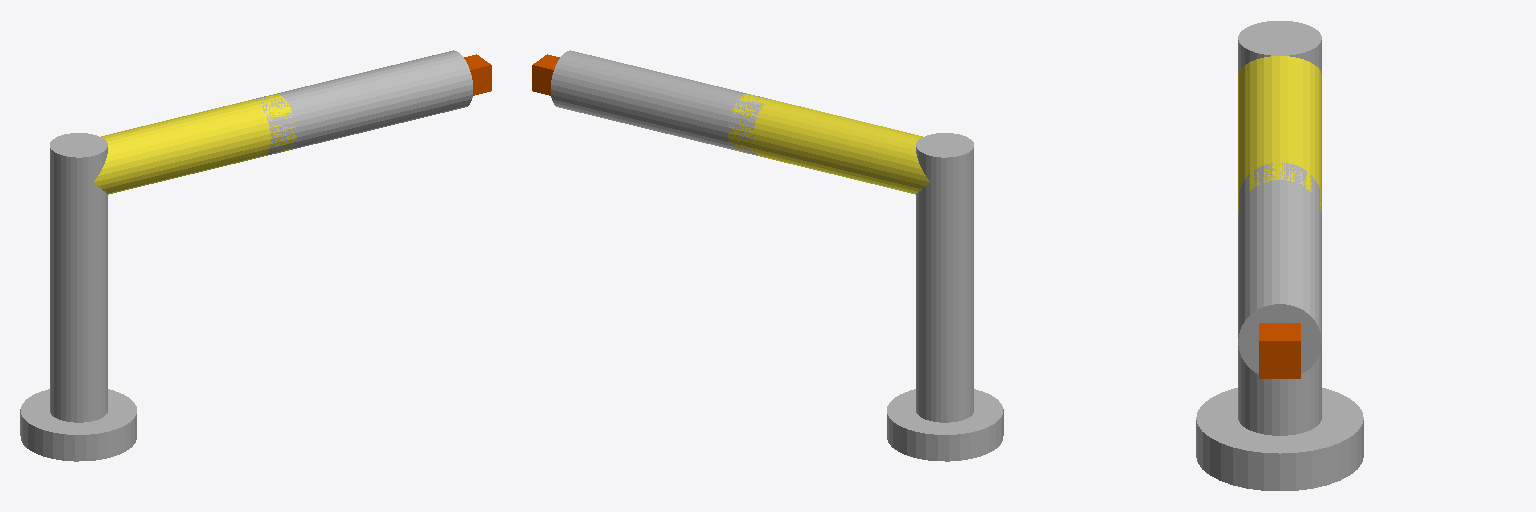
URDF robot description (team11_bot):
<?xml version="1.0" ?>
<robot name="team11_bot">
    <link name="world" />
    <link name="base_link">
        <visual>
            <geometry>
                <cylinder length="0.05" radius="0.1" />
            </geometry>
            <material name="silver">
                <color rgba="0.75 0.75 0.75 1" />
            </material>
            <origin rpy="0 0 0" xyz="0 0 0.025" />
        </visual>
        <collision>
            <geometry>
                <cylinder length="0.05" radius="0.1" />
            </geometry>
            <origin rpy="0 0 0" xyz="0 0 0.025" />
        </collision>
        
<inertial>
            <mass value="0.1" />
            <inertia ixx="0.03" iyy="0.03" izz="0.03" ixy="0.0" ixz="0.0" iyz="0.0" />
        </inertial>

    </link>
    <joint name="fixed" type="fixed">
        <parent link="world" />
        <child link="base_link" />
    </joint>
    <link name="torso">
        <visual>
            <geometry>
                <cylinder length="0.5" radius="0.05" />
            </geometry>
            <material name="silver">
                <color rgba="0.75 0.75 0.75 1" />
            </material>
            <origin rpy="0 0 0" xyz="0 0 0.25" />
        </visual>
        <collision>
            <geometry>
                <cylinder length="0.5" radius="0.05" />
            </geometry>
            <origin rpy="0 0 0" xyz="0 0 0.25" />
        </collision>
        
<inertial>
            <mass value="0.1" />
            <inertia ixx="0.03" iyy="0.03" izz="0.03" ixy="0.0" ixz="0.0" iyz="0.0" />
        </inertial>

    </link>
    <joint name="hip" type="continuous">
        <axis xyz="0 0 1" />
        <parent link="base_link" />
        <child link="torso" />
        <origin rpy="0 0 0" xyz="0.0 0.0 0.05" />
    </joint>
    <link name="upper_arm">
        <visual>
            <geometry>
                <cylinder length="0.4" radius="0.05" />
            </geometry>
            <material name="red" />
            <origin rpy="0 0 0" xyz="0 0 0.2" />
        </visual>
        <collision>
            <geometry>
                <cylinder length="0.4" radius="0.05" />
            </geometry>
            <origin rpy="0 0 0" xyz="0 0 0.2" />
        </collision>
        
<inertial>
            <mass value="0.1" />
            <inertia ixx="0.03" iyy="0.03" izz="0.03" ixy="0.0" ixz="0.0" iyz="0.0" />
        </inertial>

    </link>
    <joint name="shoulder" type="continuous">
        <axis xyz="0 1 0" />
        <parent link="torso" />
        <child link="upper_arm" />
        <origin rpy="0 1.5708 0" xyz="0.0 0.0 0.45" />
    </joint>
    <link name="lower_arm">
        <visual>
            <geometry>
                <cylinder length="0.4" radius="0.05" />
            </geometry>
            <material name="silver" />
            <origin rpy="0 0 0" xyz="0 0 0.2" />
        </visual>
        <collision>
            <geometry>
                <cylinder length="0.4" radius="0.05" />
            </geometry>
            <origin rpy="0 0 0" xyz="0 0 0.2" />
        </collision>
        
<inertial>
            <mass value="0.1" />
            <inertia ixx="0.03" iyy="0.03" izz="0.03" ixy="0.0" ixz="0.0" iyz="0.0" />
        </inertial>

    </link>
    <joint name="elbow" type="continuous">
        <axis xyz="0 1 0" />
        <parent link="upper_arm" />
        <child link="lower_arm" />
        <origin rpy="0 0 0" xyz="0.0 0.0 0.35" />
    </joint>
    <link name="hand">
        <visual>
            <geometry>
                <box size="0.05 0.05 0.05" />
            </geometry>
            <material name="blue" />
        </visual>
        <collision>
            <geometry>
                <box size="0.05 0.05 0.05" />
            </geometry>
        </collision>
        
<inertial>
            <mass value="0.1" />
            <inertia ixx="0.03" iyy="0.03" izz="0.03" ixy="0.0" ixz="0.0" iyz="0.0" />
        </inertial>

    </link>
    <joint name="wrist" type="continuous">
        <axis xyz="0 1 0" />
        <parent link="lower_arm" />
        <child link="hand" />
        <origin rpy="0 0 0" xyz="0.0 0.0 0.425" />
    </joint>
    
    
    
    
    <!--
    <gazebo reference="base_link">
        <sensor type="ray" name="hokuyo">
            <pose>0 0 0 0 0 0</pose>
            <visualize>true</visualize>
            <update_rate>40</update_rate>
            <ray>
                <scan>
                    <horizontal>
                        <samples>720</samples>
                        <resolution>1</resolution>
                        <min_angle>-1.570796</min_angle>
                        <max_angle>1.570796</max_angle>
                    </horizontal>
                </scan>
                <range>
                    <min>0.10</min>
                    <max>30.0</max>
                    <resolution>0.01</resolution>
                </range>
            </ray>
            <plugin name="gpu_laser" filename="libgazebo_ros_laser.so">
                <topicName>/scan</topicName>
                <frameName>base_hokuyo_link</frameName>
            </plugin>
        </sensor>
    </gazebo>
-->
    
    
    <transmission name="trans_hip">
        <type>transmission_interface/SimpleTransmission</type>
        <joint name="hip">
            <hardwareInterface>hardware_interface/PositionJointInterface</hardwareInterface>
        </joint>
        <actuator name="hip_motor">
            <hardwareInterface>hardware_interface/PositionJointInterface</hardwareInterface>
            <mechanicalReduction>1</mechanicalReduction>
        </actuator>
    </transmission>
    <transmission name="trans_shoulder">
        <type>transmission_interface/SimpleTransmission</type>
        <joint name="shoulder">
            <hardwareInterface>hardware_interface/PositionJointInterface</hardwareInterface>
        </joint>
        <actuator name="shoulder_motor">
            <hardwareInterface>hardware_interface/PositionJointInterface</hardwareInterface>
            <mechanicalReduction>1</mechanicalReduction>
        </actuator>
    </transmission>
    <transmission name="trans_elbow">
        <type>transmission_interface/SimpleTransmission</type>
        <joint name="elbow">
            <hardwareInterface>hardware_interface/PositionJointInterface</hardwareInterface>
        </joint>
        <actuator name="elbow_motor">
            <hardwareInterface>hardware_interface/PositionJointInterface</hardwareInterface>
            <mechanicalReduction>1</mechanicalReduction>
        </actuator>
    </transmission>
    <transmission name="trans_wrist">
        <type>transmission_interface/SimpleTransmission</type>
        <joint name="wrist">
            <hardwareInterface>hardware_interface/PositionJointInterface</hardwareInterface>
        </joint>
        <actuator name="wrist_motor">
            <hardwareInterface>hardware_interface/PositionJointInterface</hardwareInterface>
            <mechanicalReduction>1</mechanicalReduction>
        </actuator>
    </transmission>
    
    



    <gazebo>
        <plugin name="gazebo_grasp_fix" filename="libgazebo_grasp_fix.so">
            <arm>
                <arm_name>arm</arm_name>
                <palm_link>hand</palm_link>
                
                
            </arm>
            <forces_angle_tolerance>100</forces_angle_tolerance>
            <update_rate>4</update_rate>
            <grip_count_threshold>4</grip_count_threshold>
            <max_grip_count>8</max_grip_count>
            <release_tolerance>0.005</release_tolerance>
            <disable_collisions_on_attatch>false</disable_collisions_on_attatch>
            <contact_topic>_default_topic_</contact_topic>
        </plugin>
    </gazebo>

    

    <gazebo>
        <plugin name="gazebo_ros_control" filename="libgazebo_ros_control.so">
            <robotNamespace>/</robotNamespace>
        </plugin>
    </gazebo>
    <gazebo>
        <plugin name="joint_state_publisher" filename="libgazebo_ros_joint_state_publisher.so">
            <jointName>hip, shoulder, elbow, wrist</jointName>
        </plugin>
    </gazebo>
</robot>

--- Facts derived from the render (not from the file) ---
Views: 3 orthographic renders of the robot side by side, from view 1: azimuth 30°, elevation 25°; view 2: azimuth 150°, elevation 25°; view 3: azimuth 270°, elevation 25°.
Model team11_bot with 6 links and 5 joints (4 continuous, 1 fixed), rooted at world, posed all joints at 0.
Links seen in each view (by area): view 1: torso, lower_arm, upper_arm, base_link, hand; view 2: torso, lower_arm, upper_arm, base_link, hand; view 3: lower_arm, base_link, upper_arm, torso, hand.
Boxes of the visible links, <box> form: torso: <box>50,133,107,422</box>; lower_arm: <box>252,50,472,155</box>; upper_arm: <box>94,94,295,194</box>; base_link: <box>20,389,136,461</box>; hand: <box>464,54,491,95</box>; torso: <box>916,133,973,422</box>; lower_arm: <box>551,50,770,155</box>; upper_arm: <box>728,94,929,194</box>; base_link: <box>887,389,1003,461</box>; hand: <box>532,54,559,95</box>; lower_arm: <box>1238,162,1321,379</box>; base_link: <box>1196,388,1363,490</box>; upper_arm: <box>1238,56,1321,213</box>; torso: <box>1238,21,1321,435</box>; hand: <box>1259,323,1300,378</box>.
Size in the robot's own frame: 0.9 by 0.2 by 0.55 metres.
Geometry: primitives only (box / cylinder / sphere), no mesh files.